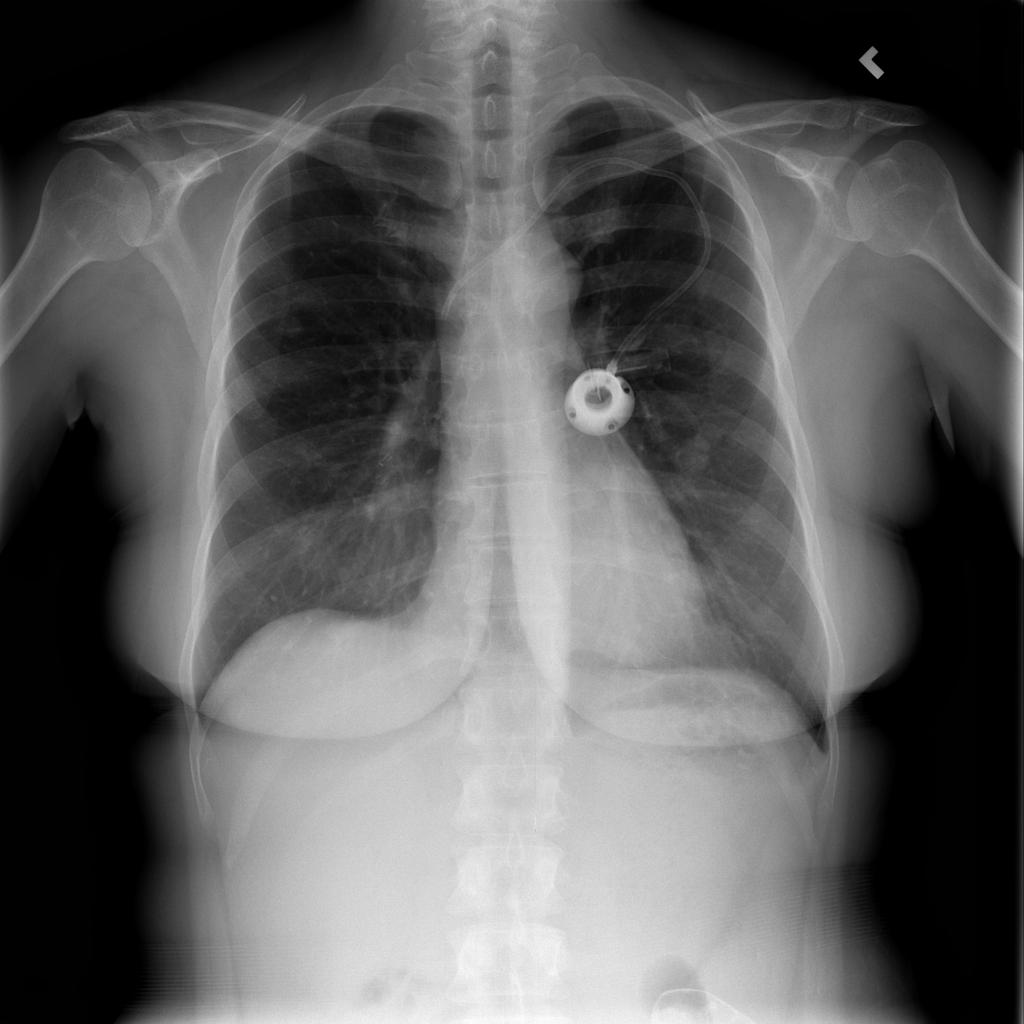nodule: (661, 422, 728, 489)
